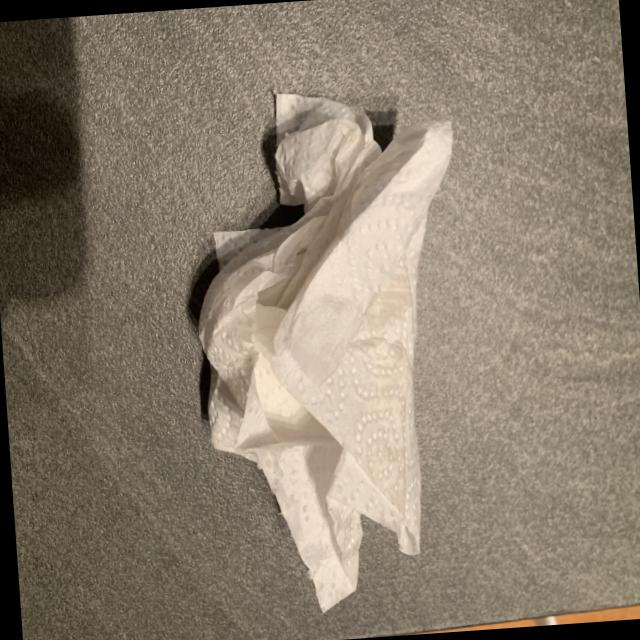organic waste: (179, 69, 488, 627)
